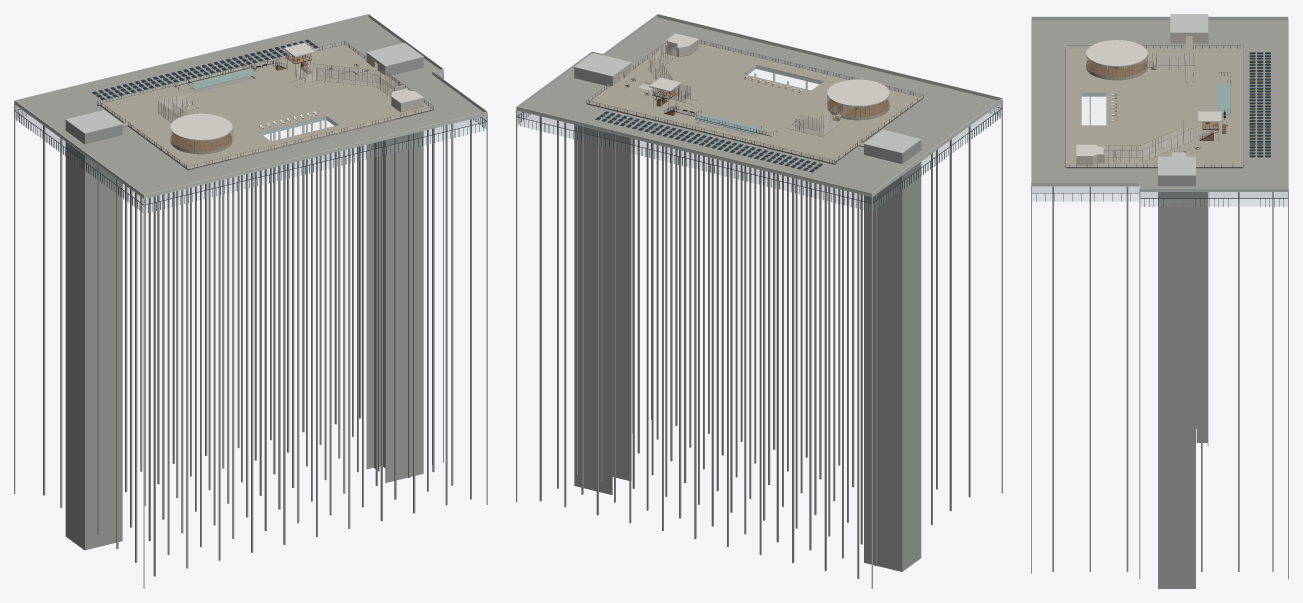
File: context-roof.glb
3 views of the same model, side by side, from view 1: azimuth 30°, elevation 25°; view 2: azimuth 150°, elevation 25°; view 3: azimuth 270°, elevation 25° (orthographic).
Parts seen in each view (by area): view 1: HEPHAESTUS_exterior_context / cell 0,0,1; view 2: HEPHAESTUS_exterior_context / cell 0,0,1; view 3: HEPHAESTUS_exterior_context / cell 0,0,1.
Part boxes in pixels (bbox=[...]): HEPHAESTUS_exterior_context / cell 0,0,1: bbox=[14, 14, 487, 588]; HEPHAESTUS_exterior_context / cell 0,0,1: bbox=[516, 14, 1002, 588]; HEPHAESTUS_exterior_context / cell 0,0,1: bbox=[1031, 14, 1288, 588].
Bounding box in the file's own units: 131 × 152 × 83.28.
41 materials, 9 textured.
